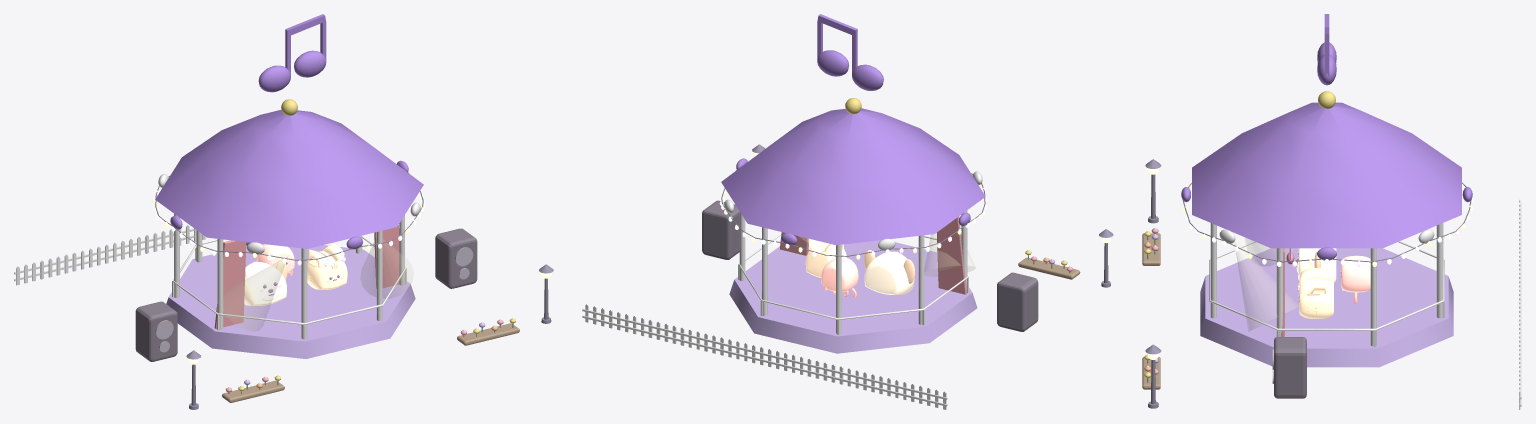
The model's file is building_bandstand_L09.glb.
3 views of the same model, side by side, from view 1: azimuth 30°, elevation 25°; view 2: azimuth 150°, elevation 25°; view 3: azimuth 270°, elevation 25° (orthographic). The views are drawn at different scales.
Visible parts, largest first — view 1: Body, bandstand_L9, object 17, object 7, object 29; view 2: Body, bandstand_L9, object 7, object 29, object 17; view 3: Body, bandstand_L9, object 17, object 29, object 7.
Part boxes in pixels (box(x1,y1,x2,y2)): Body: box(135, 14, 477, 361); bandstand_L9: box(14, 225, 553, 409); object 17: box(307, 244, 347, 289); object 7: box(244, 261, 286, 305); object 29: box(256, 244, 294, 273); Body: box(702, 14, 1038, 353); bandstand_L9: box(582, 144, 1113, 409); object 7: box(864, 251, 914, 294); object 29: box(821, 257, 858, 292); object 17: box(805, 239, 846, 277); Body: box(1181, 14, 1473, 398); bandstand_L9: box(1142, 159, 1521, 409); object 17: box(1299, 268, 1333, 318); object 29: box(1341, 255, 1370, 292); object 7: box(1298, 248, 1336, 282).
Size of the model in its own units: 25.2 by 18.39 by 20.75.
